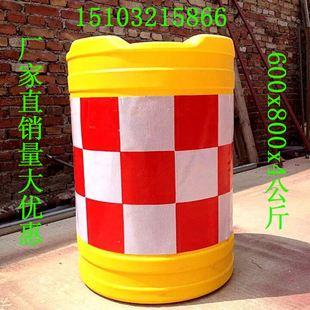sign: (56, 30, 245, 303)
